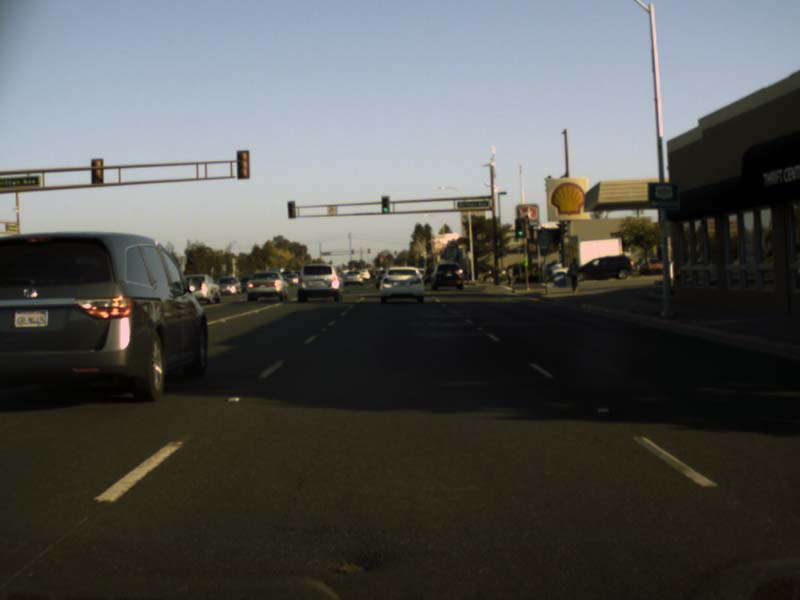Green: (515, 218, 525, 237), (381, 194, 389, 213), (494, 232, 501, 246)
